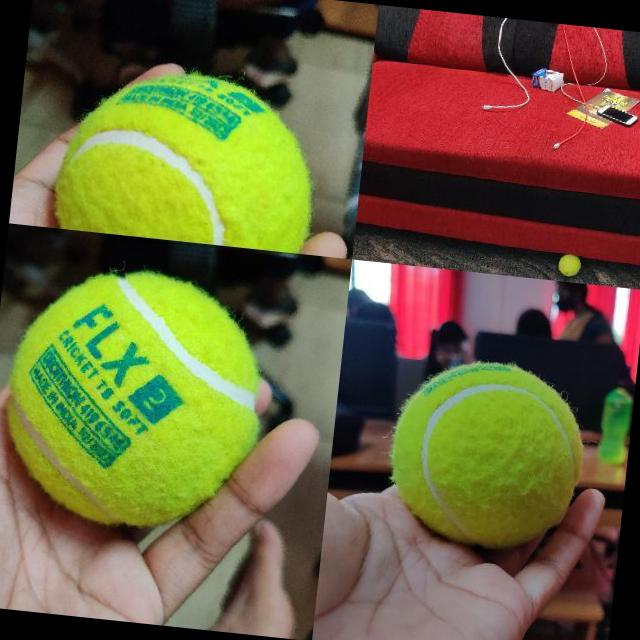Tennis Ball: (0, 259, 273, 537), (51, 61, 322, 253), (382, 352, 590, 556), (557, 252, 581, 276)
